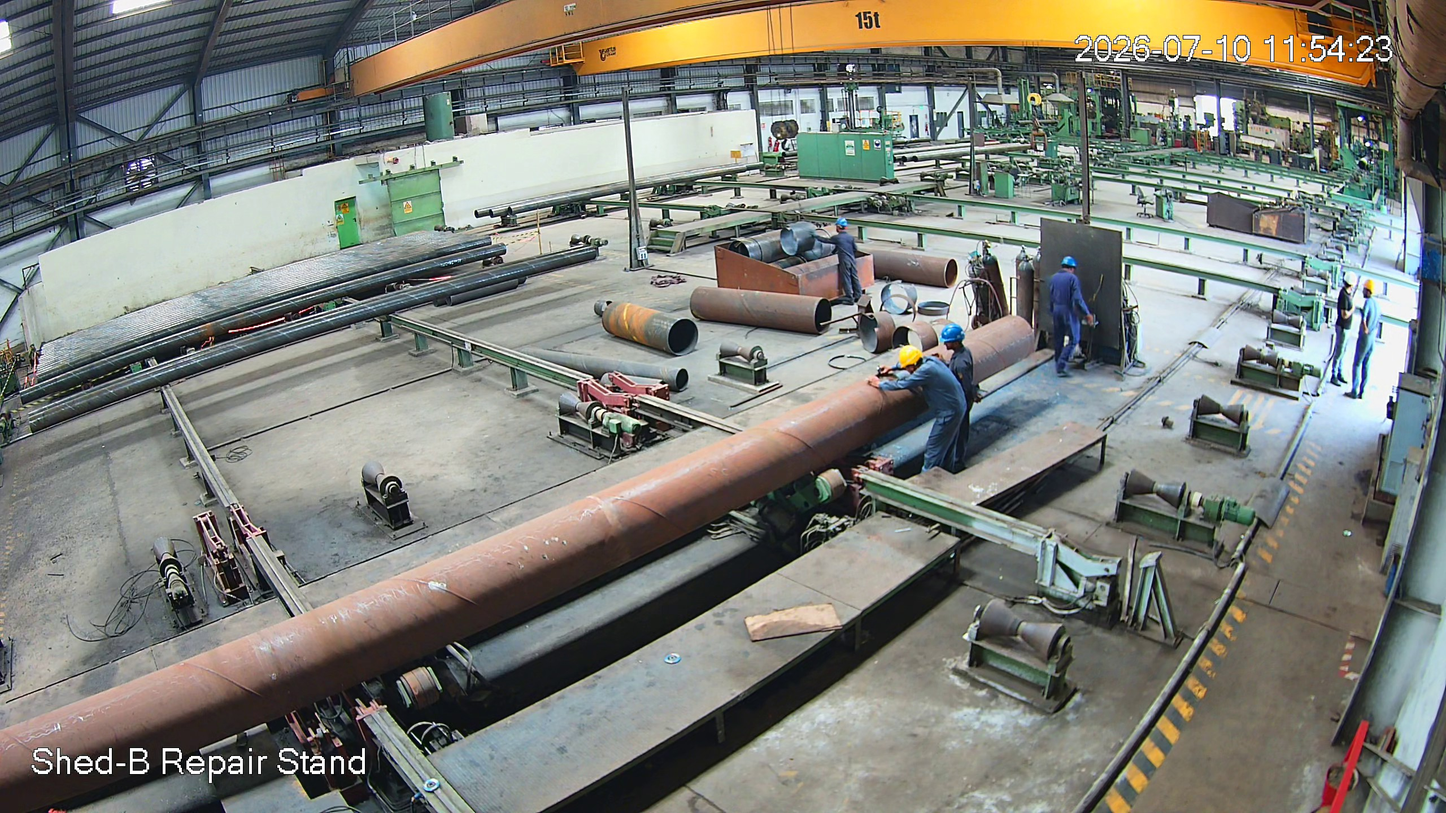Helmet: (889, 337, 922, 384), (938, 320, 966, 360), (1052, 245, 1080, 283), (1334, 261, 1358, 301), (1359, 265, 1381, 307), (830, 210, 854, 236)
Person: (890, 343, 958, 486), (931, 326, 994, 469), (1041, 250, 1095, 391), (1353, 275, 1384, 408), (1337, 266, 1360, 407), (829, 216, 861, 308)
